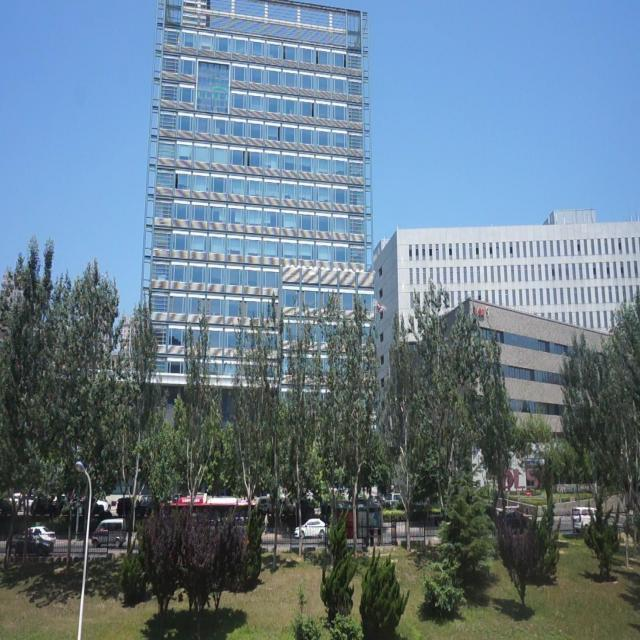UAV: (373, 298, 387, 314)
